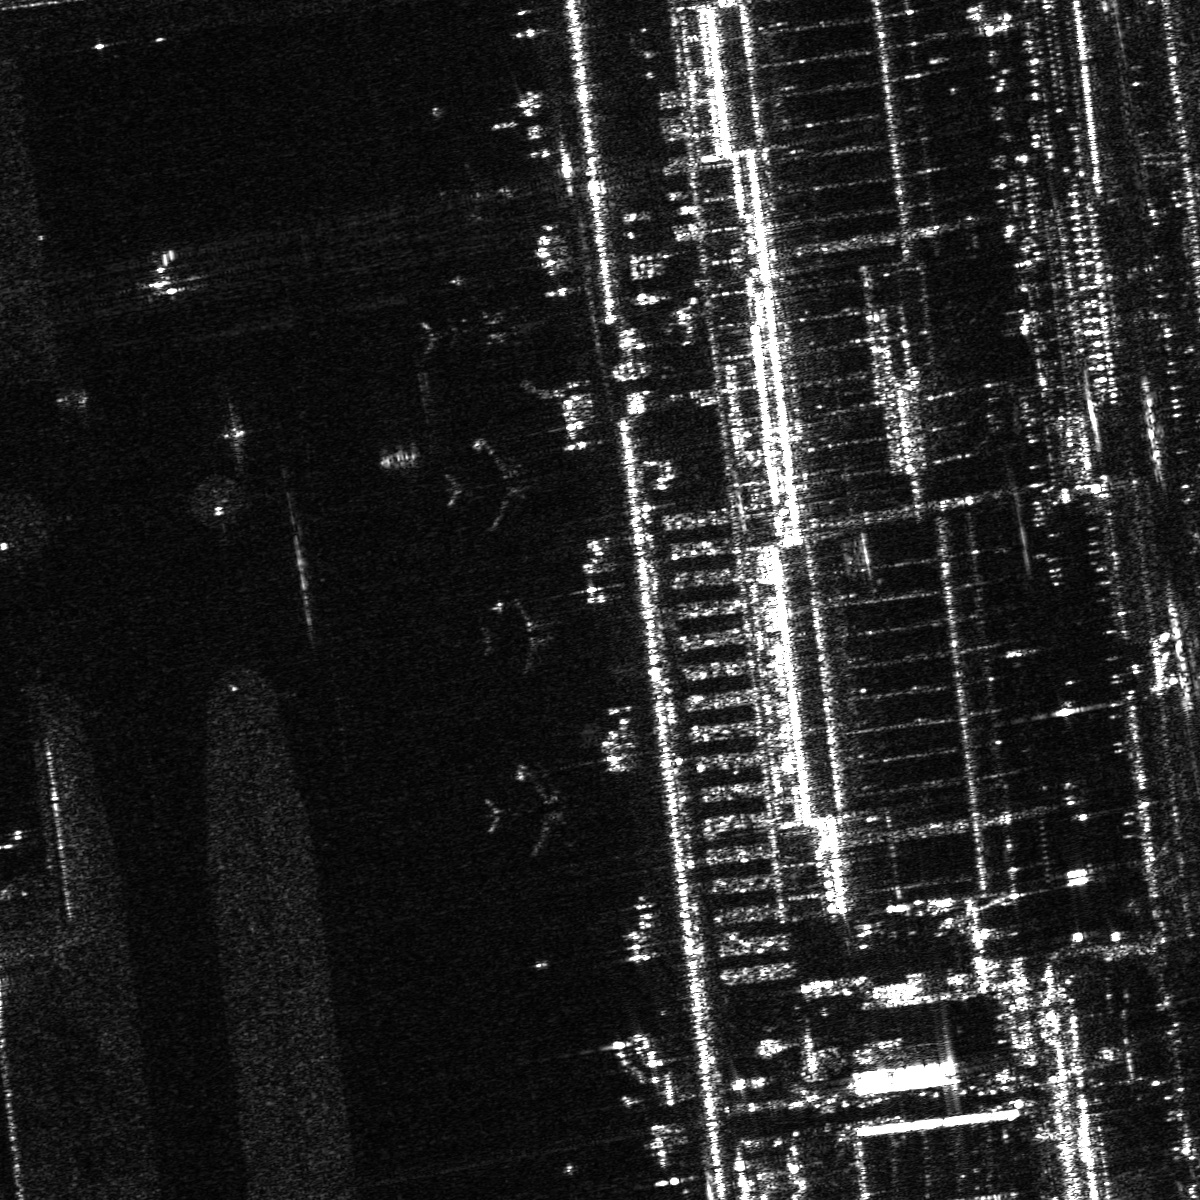Boeing787: (409, 279, 531, 384), (444, 438, 549, 531), (485, 764, 573, 848), (478, 597, 563, 680)
other: (431, 160, 515, 234), (127, 248, 197, 305)
